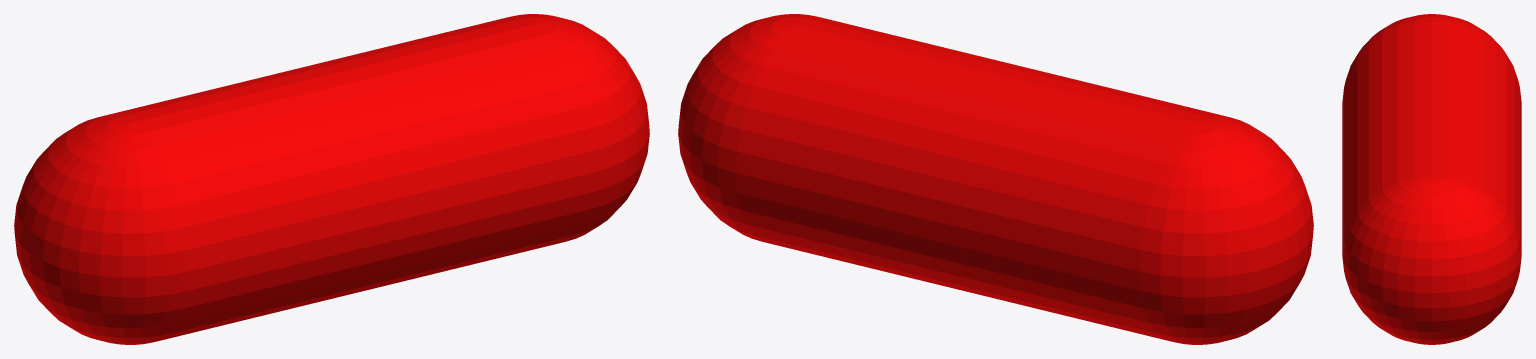
The model's file is shot.obj.
3 views of the same model, side by side, from view 1: azimuth 30°, elevation 25°; view 2: azimuth 150°, elevation 25°; view 3: azimuth 270°, elevation 25° (orthographic). The views are drawn at different scales.
Parts seen in each view (by area): view 1: Cylinder.001; view 2: Cylinder.001; view 3: Cylinder.001.
Boxes of the visible parts, bbox=[...] form: Cylinder.001: bbox=[14, 14, 649, 344]; Cylinder.001: bbox=[678, 14, 1313, 344]; Cylinder.001: bbox=[1342, 14, 1521, 344].
Bounding box in the file's own units: 6 × 2 × 2.
1 material, 1 textured.
